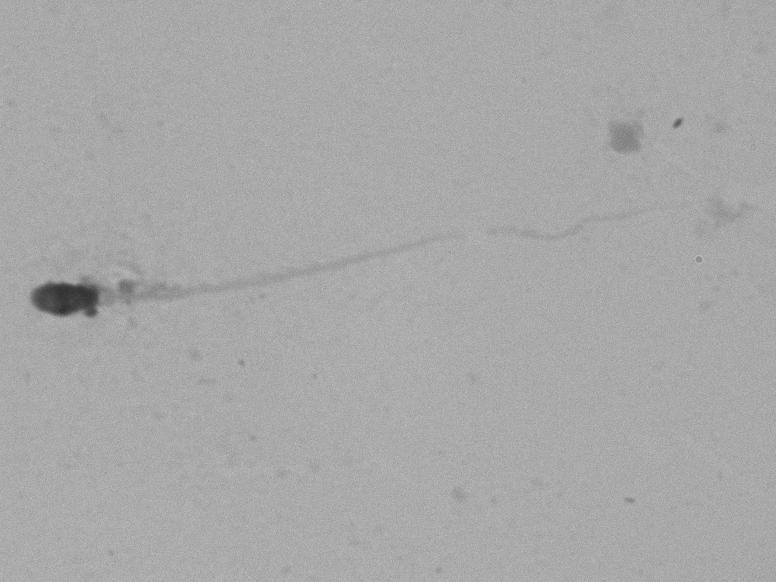Abnormal: (20, 166, 672, 354)
